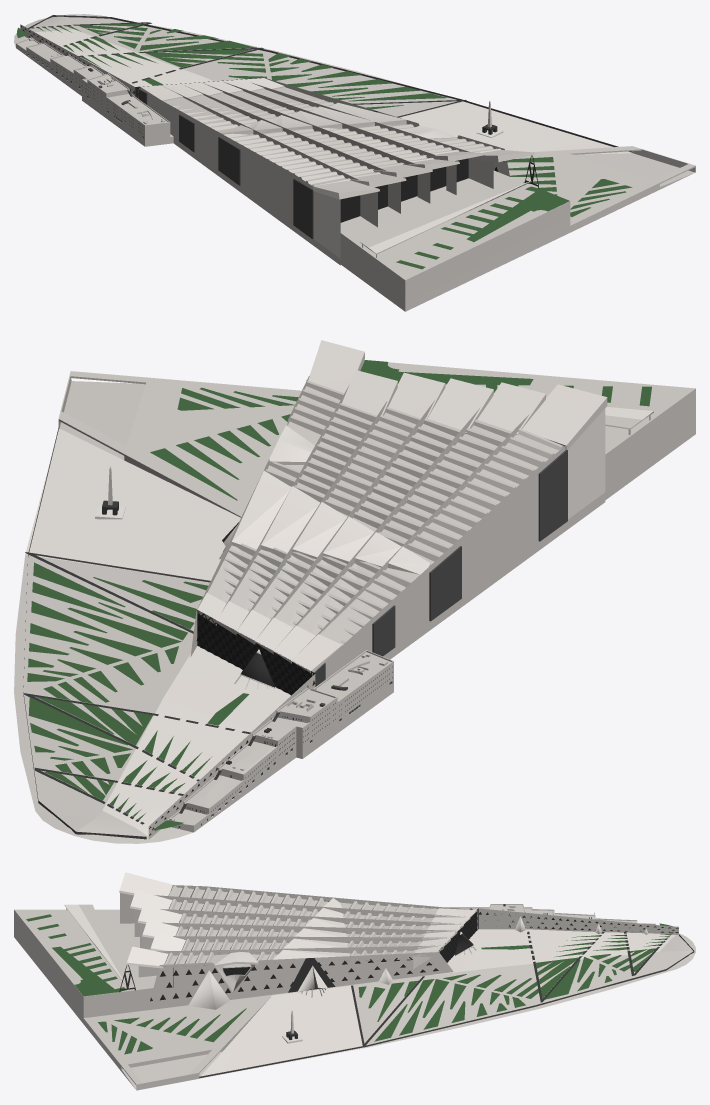
Rendered from 20250702_museum_for_mb.glb.
The picture shows the model from 3 angles, top to bottom: view 1: azimuth 30°, elevation 25°; view 2: azimuth 150°, elevation 25°; view 3: azimuth 270°, elevation 25°; orthographic projection. The views are drawn at different scales.
Visible parts, largest first — view 1: Plane.017, Plane.010, Plane.018, Plane.049, Plane.011, Plane.079, Plane.002, Plane.083, Plane.012, Plane.075, Plane.005, Plane.050 (+3 smaller); view 2: Plane.017, Plane.018, Plane.049, Plane.010, Plane.079, Plane.002, Plane.012, Plane.011, Plane.005, Plane.068, Plane.080, Plane.075 (+5 smaller); view 3: Plane.017, Plane.075, Plane.018, Plane.011, Plane.049, Plane.079, Plane.002, Plane.053, Plane.083, Plane.005, Plane.010, Plane.050 (+7 smaller).
Part boxes in pixels (x1,y1,x2,y2): Plane.017: (14,14,695,311); Plane.010: (138,88,539,265); Plane.018: (165,95,501,186); Plane.049: (140,78,534,199); Plane.011: (171,82,493,227); Plane.079: (16,23,447,109); Plane.002: (16,37,170,139); Plane.083: (396,186,569,269); Plane.012: (164,87,334,126); Plane.075: (20,24,509,176); Plane.005: (507,157,632,216); Plane.050: (28,15,631,152); Plane.017: (14,362,695,843); Plane.018: (223,380,563,643); Plane.049: (197,340,607,672); Plane.010: (312,408,605,686); Plane.079: (27,562,208,830); Plane.002: (167,650,393,832); Plane.012: (207,545,405,645); Plane.011: (221,385,529,652); Plane.005: (150,387,298,500); Plane.068: (197,610,314,695); Plane.080: (24,552,250,824); Plane.075: (148,376,315,839); Plane.017: (14,904,695,1090); Plane.075: (147,908,678,1010); Plane.018: (163,885,435,967); Plane.011: (120,893,465,981); Plane.049: (119,872,476,968); Plane.079: (358,923,672,1041); Plane.002: (446,904,659,933); Plane.053: (188,916,648,1009); Plane.083: (26,914,126,996); Plane.005: (98,1008,246,1054); Plane.010: (119,885,477,992); Plane.050: (199,934,694,1078).
Size of the model in its own units: 443 by 79.65 by 774.
